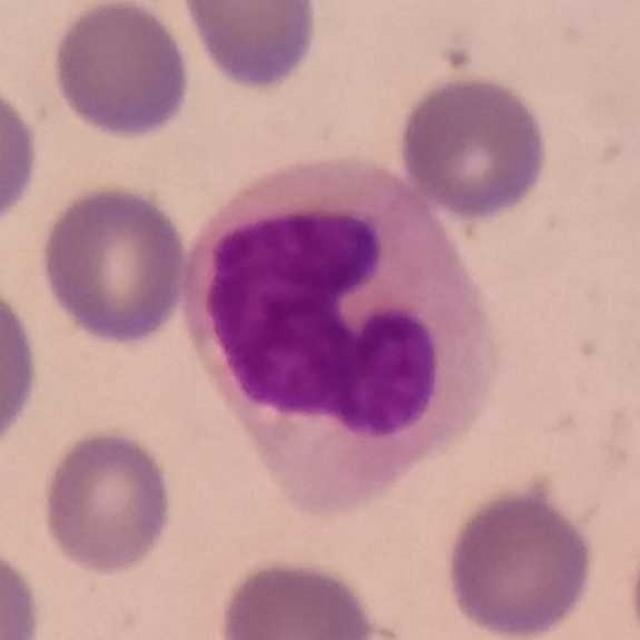mono: (176, 156, 503, 517)
